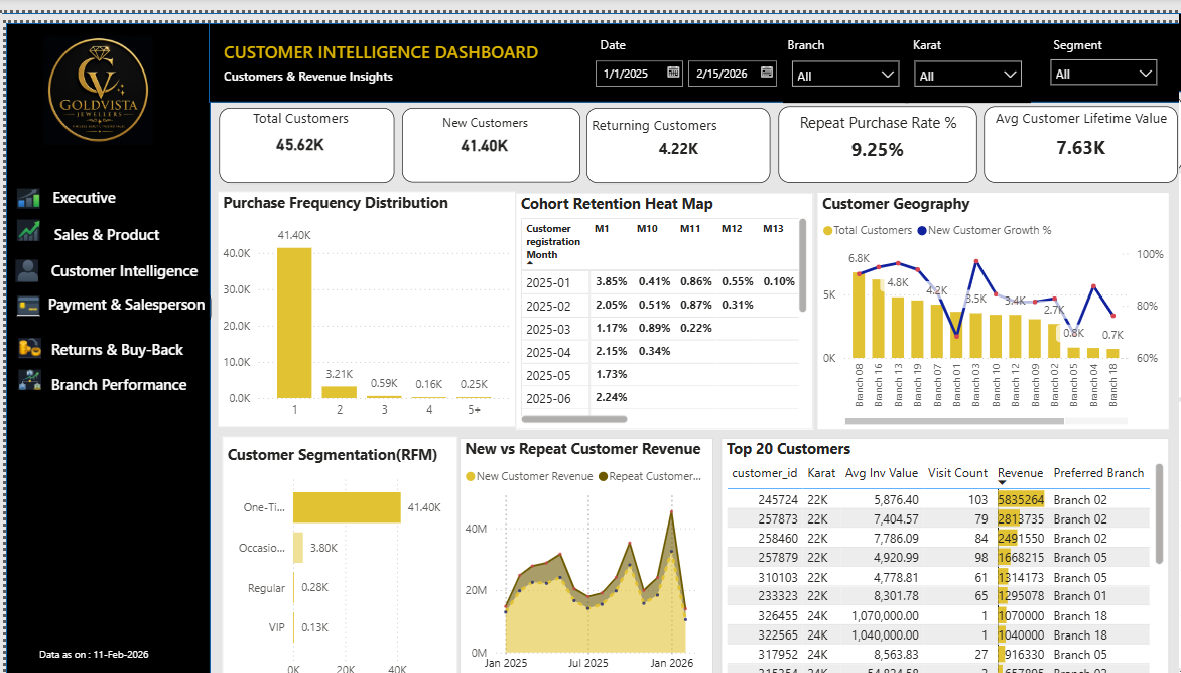

What the dashboard file says about the page in this screenshot:
{"tool":"powerbi","page":{"name":"Customer Intelligence","canvas":[1280,720],"ordinal":2},"visuals":[{"type":"shape","box":[0,0,221.7,720],"z":0},{"type":"image","box":[31.5,9,137.1,129.2],"z":1000},{"type":"actionButton","title":"Executive","box":[45.7,172.8,154.3,39.5],"z":2000},{"type":"actionButton","title":"Sales & Product","box":[46.9,212.3,153.1,38.3],"z":3000},{"type":"actionButton","title":"Customer Intelligence","box":[44.4,251.9,175.3,38.3],"z":4000},{"type":"actionButton","title":"Payment & Salesperson","box":[40.7,288.9,181.5,39.5],"z":5000},{"type":"actionButton","title":"Returns & Buy-Back","box":[44.4,337,174.1,38.3],"z":6000},{"type":"actionButton","title":"Branch Performance","box":[44.4,375.3,155.6,40.7],"z":7000},{"type":"image","box":[6.7,172.3,35,35],"z":8000},{"type":"image","box":[8.3,369,35,35],"z":9000},{"type":"image","box":[8.3,334,35,35],"z":10000},{"type":"image","box":[5,250.7,35,35],"z":11000},{"type":"image","box":[6.7,289,35,35],"z":12000},{"type":"image","box":[6.7,207.3,35,35],"z":13000},{"type":"card","fields":{"Values":["Measure.Last Data Date"]},"box":[0,653,190,67],"z":14000},{"type":"shape","box":[220.4,0,1059.1,86],"z":15000},{"type":"slicer","fields":{"Values":["dim_date.Date"]},"box":[625.8,30.9,217,64],"z":16000},{"type":"textbox","box":[638.8,7.9,74,30],"z":17000},{"type":"slicer","fields":{"Values":["public dim_branch.branch_name"]},"box":[842.8,30.9,136,55],"z":18000},{"type":"slicer","fields":{"Values":["public dim_karat.karat_name"]},"box":[975.8,30.9,136,55],"z":19000},{"type":"textbox","box":[842.7,7.9,82.8,30.1],"z":20000},{"type":"textbox","box":[978.8,7.9,74,30],"z":21000},{"type":"textbox","title":"CUSTOMER INTELLIGENCE DASHBOARD","box":[231.2,18.3,376.3,50.5],"z":22000},{"type":"card","title":"Total Customers","fields":{"Values":["Measure.Total Customers"]},"box":[231,92,190,82],"z":23000},{"type":"card","title":"Returning Customers","fields":{"Values":["Measure.Returning Customers"]},"box":[630,91,199,82],"z":24000},{"type":"card","title":"New Customers","fields":{"Values":["Measure.New Customers"]},"box":[429,92,193,81],"z":25000},{"type":"card","title":"Avg Customer Lifetime Value","fields":{"Values":["Measure.Customer Lifetime Value"]},"box":[1060,90,210,83],"z":26000},{"type":"card","title":"Repeat Purchase Rate %","fields":{"Values":["Measure.Repeat Purchase Rate %"]},"box":[837,90,215,83],"z":27000},{"type":"clusteredBarChart","title":"Customer Segmentation(RFM)","fields":{"Y":["Measure.Customer Count"],"Category":["Customer Summary.Customer Segment"]},"box":[235,448.3,255,271.7],"z":28000},{"type":"stackedAreaChart","title":"New vs Repeat Customer Revenue","fields":{"Category":["dim_date.YearMonth"],"Y":["Measure.New Customer Revenue","Measure.Repeat Customer Revenue"]},"box":[492.5,448.4,275.3,263.4],"z":29000},{"type":"pivotTable","title":"Cohort Retention Heat Map","fields":{"Rows":["public vw_sales_clean.First Purchase Month"],"Columns":["public vw_sales_clean.Cohort Month Label"],"Values":["Measure.Retention %"]},"box":[552.7,182.8,322.6,255.9],"z":30000},{"type":"tableEx","title":"Top 20 Customers","fields":{"Values":["public dim_customer.customer_id","Measure.Preferred Karat","Measure.Average Invoice Value","Customer Summary.Purchase Count","Measure.Total Revenue","Measure.Preferred Branch"]},"box":[775.3,448.4,486,263.4],"z":31000},{"type":"clusteredColumnChart","title":"Purchase Frequency Distribution","fields":{"Category":["Customer Summary.Purchase Frequency Bucket"],"Y":["Measure.Customer Count"]},"box":[229.6,182.7,323.5,255.6],"z":32000},{"type":"lineClusteredColumnComboChart","title":"Customer Geography","fields":{"Y":["Measure.Total Customers"],"Category":["public dim_branch.branch_name"],"Y2":["Measure.New Customer Growth %"]},"box":[880.6,182.8,380.6,255.9],"z":33000},{"type":"slicer","fields":{"Values":["Customer Summary.Customer Segment"]},"box":[1122.6,30.1,135.5,50.5],"z":34000},{"type":"textbox","box":[1131.2,8.6,111.8,29],"z":35000}]}

Visuals, with their boxes on the page's 1280x720 design canvas (x1, y1, x2, y2). These are canvas units, not pixel positions in the 1181x673 screenshot, which may show the page scaled, cropped or inside an application window:
shape: <region>0, 0, 222, 720</region>
image: <region>32, 9, 169, 138</region>
"Executive" actionButton: <region>46, 173, 200, 212</region>
"Sales & Product" actionButton: <region>47, 212, 200, 251</region>
"Customer Intelligence" actionButton: <region>44, 252, 220, 290</region>
"Payment & Salesperson" actionButton: <region>41, 289, 222, 328</region>
"Returns & Buy-Back" actionButton: <region>44, 337, 218, 375</region>
"Branch Performance" actionButton: <region>44, 375, 200, 416</region>
image: <region>7, 172, 42, 207</region>
image: <region>8, 369, 43, 404</region>
image: <region>8, 334, 43, 369</region>
image: <region>5, 251, 40, 286</region>
image: <region>7, 289, 42, 324</region>
image: <region>7, 207, 42, 242</region>
card - Measure.Last Data Date: <region>0, 653, 190, 720</region>
shape: <region>220, 0, 1280, 86</region>
slicer - dim_date.Date: <region>626, 31, 843, 95</region>
textbox: <region>639, 8, 713, 38</region>
slicer - public dim_branch.branch_name: <region>843, 31, 979, 86</region>
slicer - public dim_karat.karat_name: <region>976, 31, 1112, 86</region>
textbox: <region>843, 8, 926, 38</region>
textbox: <region>979, 8, 1053, 38</region>
"CUSTOMER INTELLIGENCE DASHBOARD" textbox: <region>231, 18, 608, 69</region>
"Total Customers" card: <region>231, 92, 421, 174</region>
"Returning Customers" card: <region>630, 91, 829, 173</region>
"New Customers" card: <region>429, 92, 622, 173</region>
"Avg Customer Lifetime Value" card: <region>1060, 90, 1270, 173</region>
"Repeat Purchase Rate %" card: <region>837, 90, 1052, 173</region>
"Customer Segmentation(RFM)" clusteredBarChart: <region>235, 448, 490, 720</region>
"New vs Repeat Customer Revenue" stackedAreaChart: <region>492, 448, 768, 712</region>
"Cohort Retention Heat Map" pivotTable: <region>553, 183, 875, 439</region>
"Top 20 Customers" tableEx: <region>775, 448, 1261, 712</region>
"Purchase Frequency Distribution" clusteredColumnChart: <region>230, 183, 553, 438</region>
"Customer Geography" lineClusteredColumnComboChart: <region>881, 183, 1261, 439</region>
slicer - Customer Summary.Customer Segment: <region>1123, 30, 1258, 81</region>
textbox: <region>1131, 9, 1243, 38</region>
